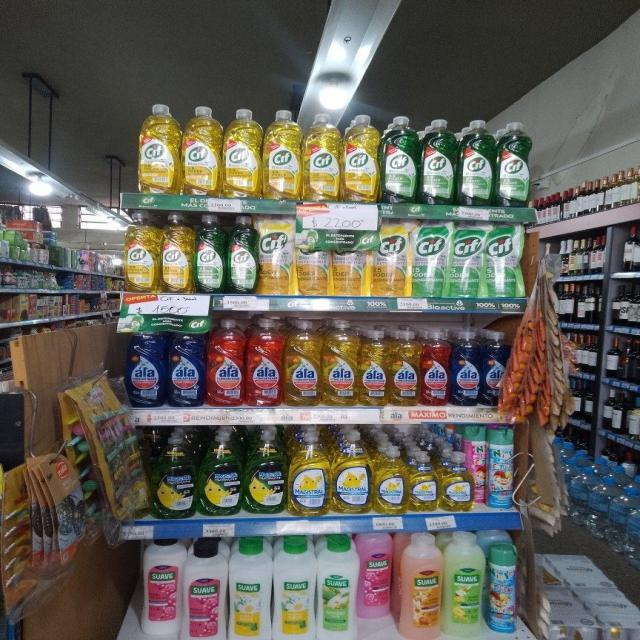ala_conc_amarillo: (284, 318, 322, 406), (322, 318, 357, 407), (389, 329, 420, 407), (359, 328, 388, 407)
ala_conc_azul: (125, 320, 165, 408), (167, 317, 205, 407), (451, 330, 481, 406), (482, 330, 507, 407)
ala_conc_rojo: (246, 317, 283, 407), (207, 318, 244, 408), (421, 329, 450, 407)
cif_conc_bot_amarilla: (137, 103, 179, 194), (181, 104, 221, 196), (263, 109, 301, 200), (303, 112, 341, 202), (223, 108, 261, 197), (342, 113, 379, 203), (125, 210, 159, 293), (161, 212, 194, 292)
cif_conc_botella_verde: (458, 118, 495, 206), (382, 115, 418, 204), (420, 118, 456, 204), (496, 121, 531, 207), (195, 214, 226, 294), (227, 215, 257, 294)
cif_conc_sachet_amarillo: (371, 218, 409, 298), (259, 214, 294, 296), (296, 218, 330, 296)
cif_conc_sachet_verde: (484, 221, 524, 297), (411, 219, 448, 298), (448, 220, 482, 297)
magistral_con_amarillo: (289, 434, 329, 516), (332, 434, 372, 514), (373, 445, 407, 514), (440, 451, 472, 512), (409, 450, 438, 513)
